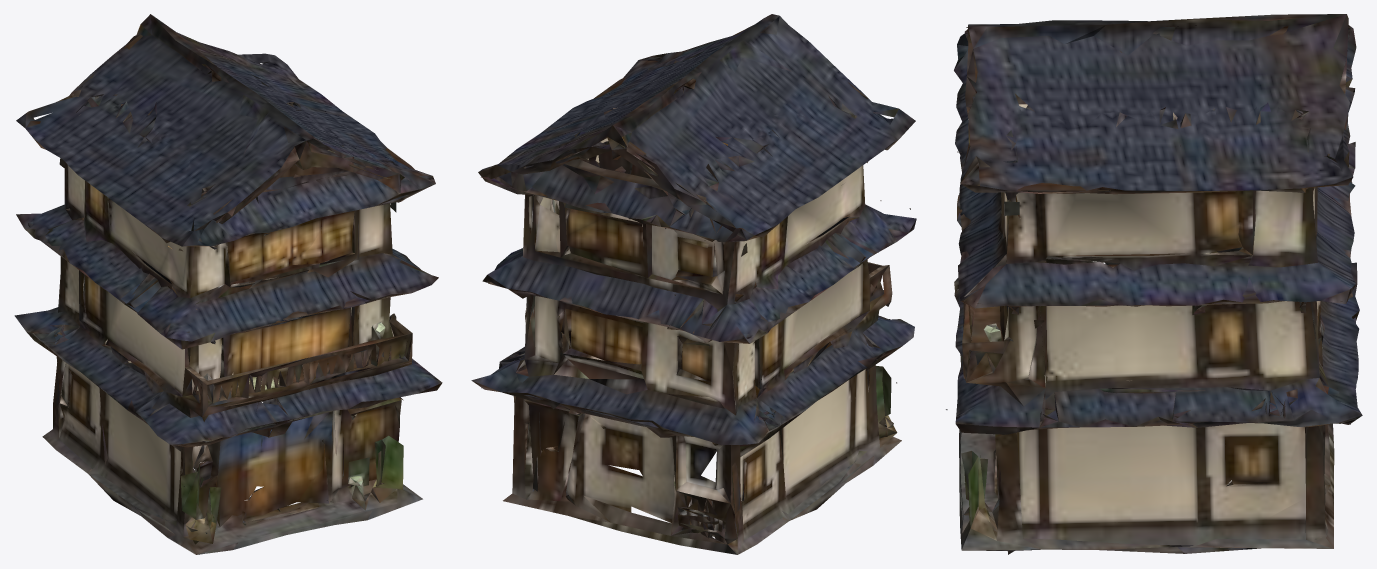
File: villa_3.glb
The picture shows the model from 3 angles, left to right: view 1: azimuth 30°, elevation 25°; view 2: azimuth 150°, elevation 25°; view 3: azimuth 270°, elevation 25°; orthographic projection. The views are drawn at different scales.
Visible parts, largest first — view 1: compact__villa_3__neural_lod; view 2: compact__villa_3__neural_lod; view 3: compact__villa_3__neural_lod.
Part boxes in pixels (x1,y1,x2,y2): compact__villa_3__neural_lod: (14,14,442,554); compact__villa_3__neural_lod: (471,14,916,554); compact__villa_3__neural_lod: (946,14,1362,554).
Bounding box in the file's own units: 0.6869 × 0.9852 × 0.7747.
1 material, 1 textured.
